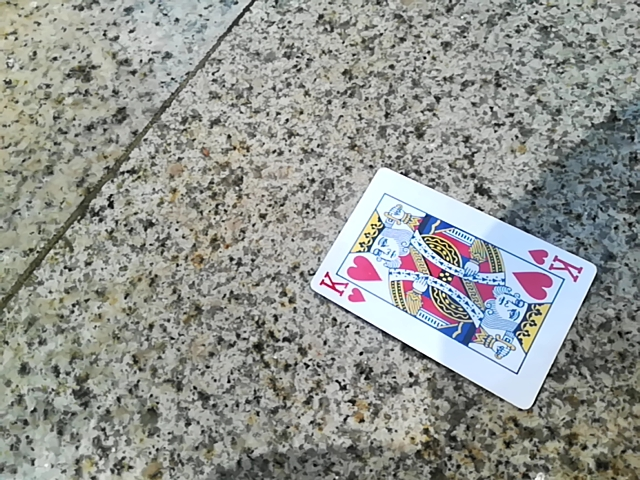hx k: (307, 177, 594, 411)
